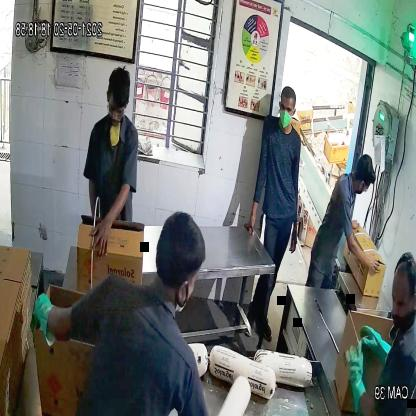no_goggles: (278, 102, 298, 116)
